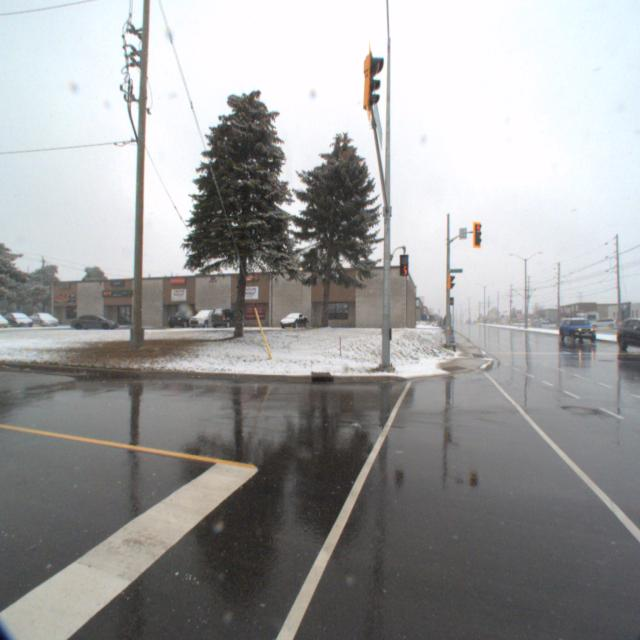Car: (551, 314, 595, 346), (64, 314, 120, 334), (185, 310, 221, 332), (208, 310, 243, 332), (276, 313, 308, 332), (22, 316, 56, 332)
